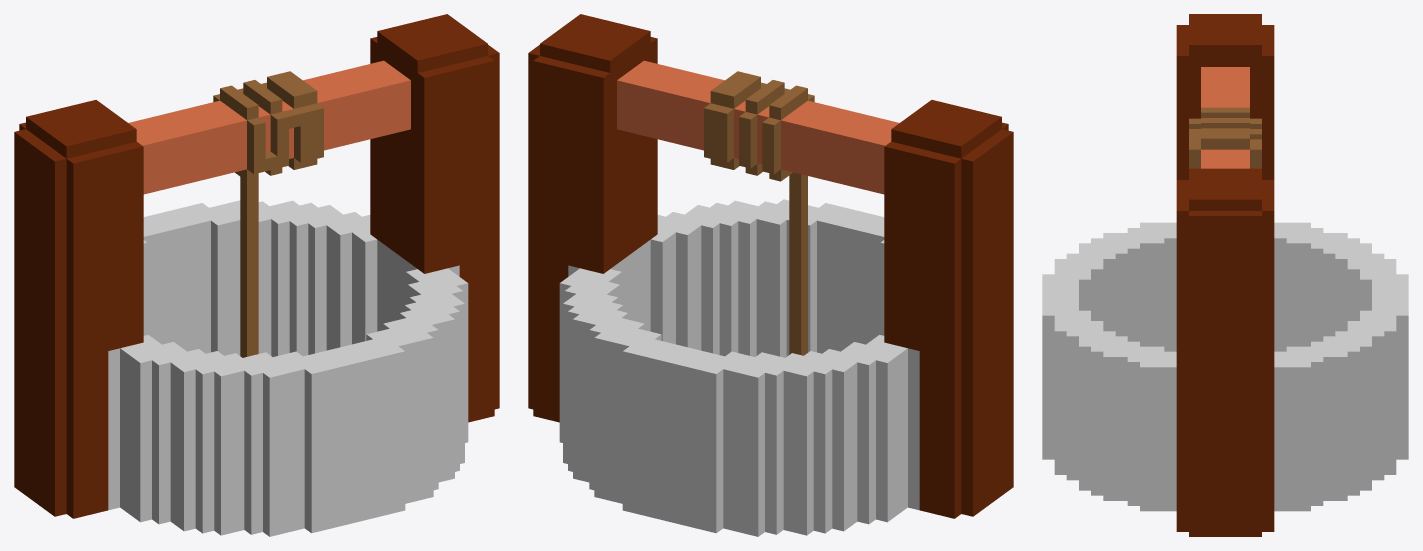
Rendered from well.obj.
3 views of the same model, side by side, from view 1: azimuth 30°, elevation 25°; view 2: azimuth 150°, elevation 25°; view 3: azimuth 270°, elevation 25° (orthographic). The views are drawn at different scales.
Size of the model in its own units: 38 by 30 by 30.
Materials: 1 (1 with a texture image).
